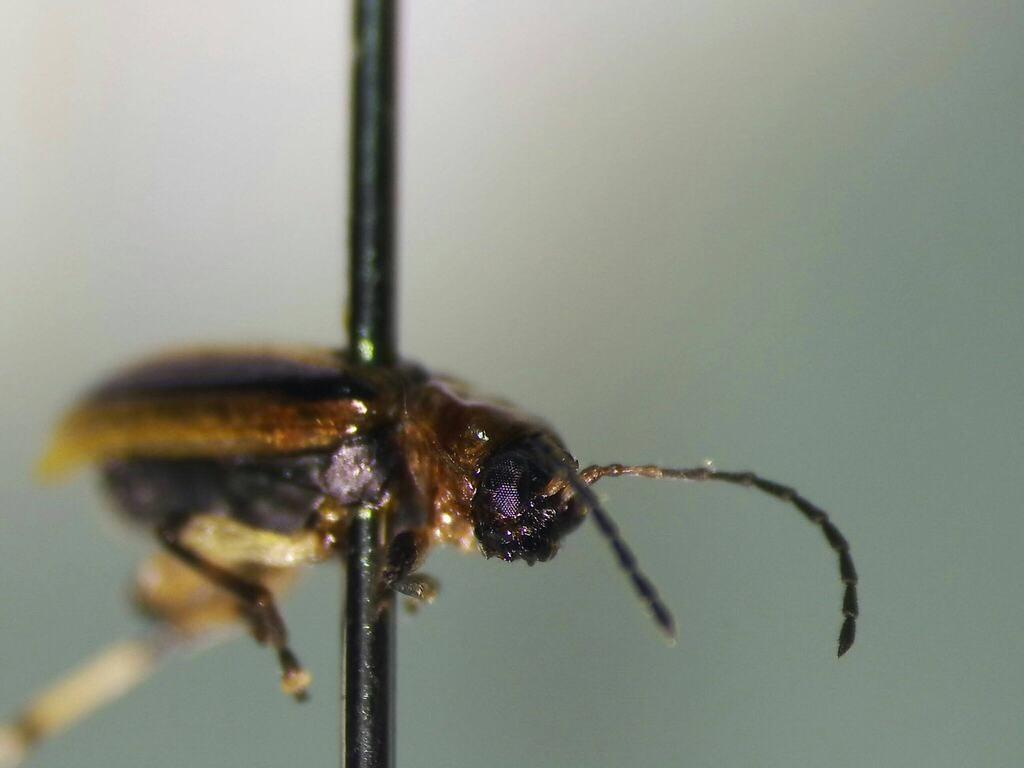potato_beetle: (0, 213, 992, 763)
